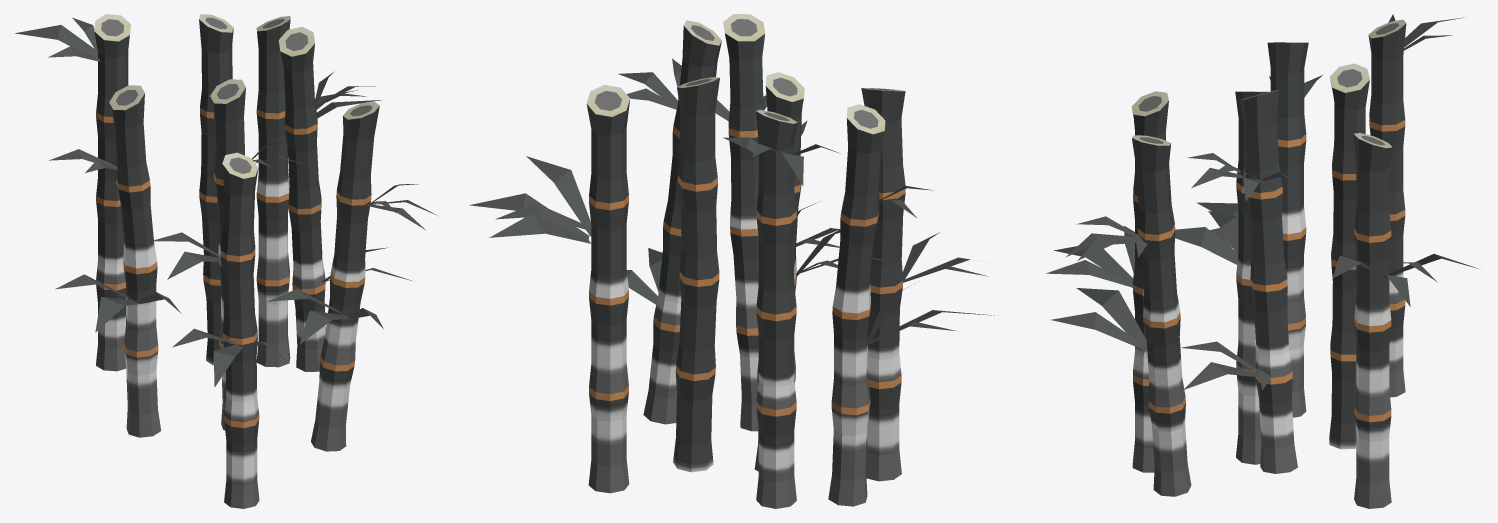
File: Bamboo_1.fbx
3 views of the same model, side by side, from view 1: azimuth 30°, elevation 25°; view 2: azimuth 150°, elevation 25°; view 3: azimuth 270°, elevation 25° (orthographic). The views are drawn at different scales.
Parts seen in each view (by area): view 1: Bamboo_1; view 2: Bamboo_1; view 3: Bamboo_1.
Boxes of the visible parts, box(x1,y1,x2,y2) form: Bamboo_1: box(15, 14, 437, 508); Bamboo_1: box(469, 14, 998, 508); Bamboo_1: box(1046, 14, 1479, 508).
Size of the model in its own units: 1.22 by 1.28 by 1.17.
